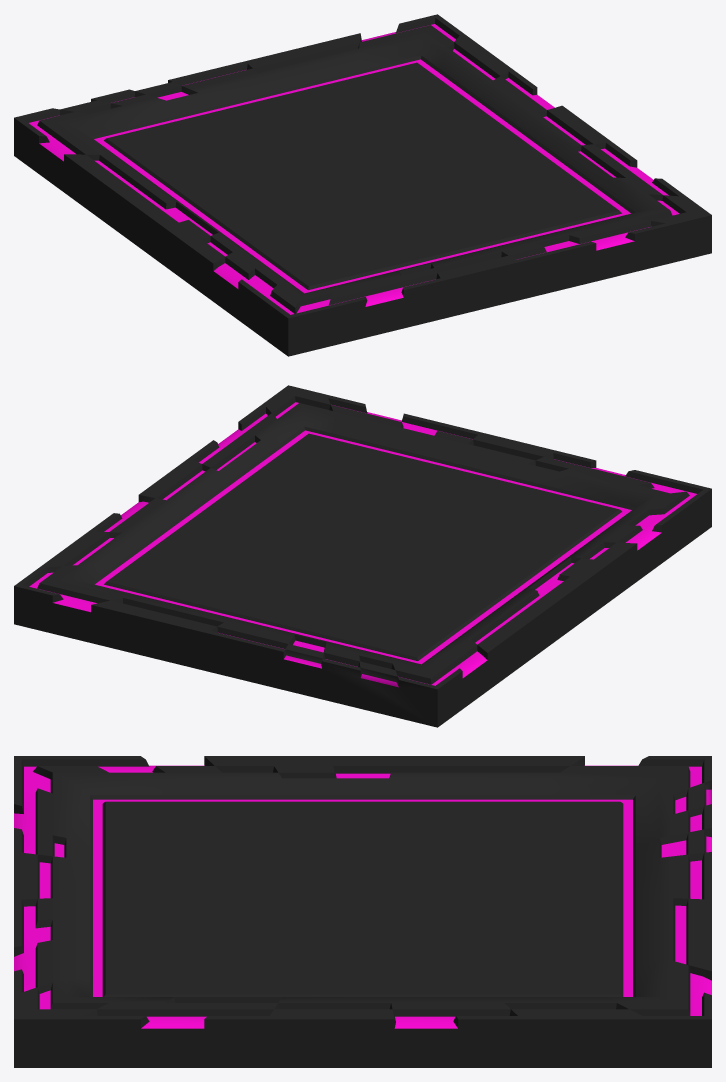
Rendered from trampoline.FBX.
3 renders of one model, top to bottom at view 1: azimuth 30°, elevation 25°; view 2: azimuth 150°, elevation 25°; view 3: azimuth 270°, elevation 25°, orthographic. The views are drawn at different scales.
Visible parts, largest first — view 1: Box001; view 2: Box001; view 3: Box001.
Part boxes in pixels (x1,y1,x2,y2): Box001: (14, 14, 711, 356); Box001: (14, 385, 711, 727); Box001: (14, 756, 711, 1067).
Bounding box in the file's own units: 150 × 12.93 × 168.
